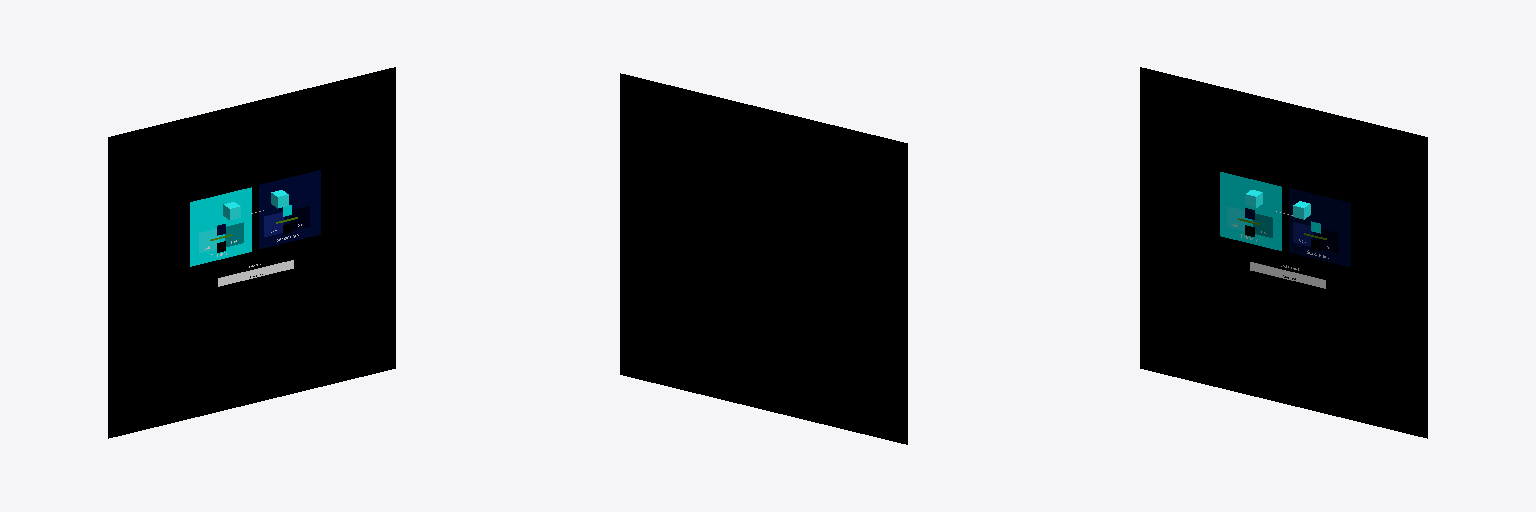
The model's file is Restyle-Materials.obj.
3 renders of one model, left to right at view 1: azimuth 30°, elevation 25°; view 2: azimuth 150°, elevation 25°; view 3: azimuth 330°, elevation 25°, orthographic.
Visible parts, largest first — view 1: Plane_Plane.002, Plane.001_Plane.003, Plane.003_Plane.004, Plane.007_Plane.009; view 2: Plane_Plane.002; view 3: Plane_Plane.002, Plane.001_Plane.003, Plane.003_Plane.004, Plane.007_Plane.009.
Boxes of the visible parts, <box> form: Plane_Plane.002: <box>108,67,395,438</box>; Plane.001_Plane.003: <box>190,187,251,266</box>; Plane.003_Plane.004: <box>259,170,320,248</box>; Plane.007_Plane.009: <box>218,260,293,286</box>; Plane_Plane.002: <box>620,73,907,444</box>; Plane_Plane.002: <box>1140,67,1427,438</box>; Plane.001_Plane.003: <box>1220,172,1281,250</box>; Plane.003_Plane.004: <box>1289,188,1350,266</box>; Plane.007_Plane.009: <box>1250,262,1325,288</box>.
Size of the model in its own units: 525 by 525 by 26.55.